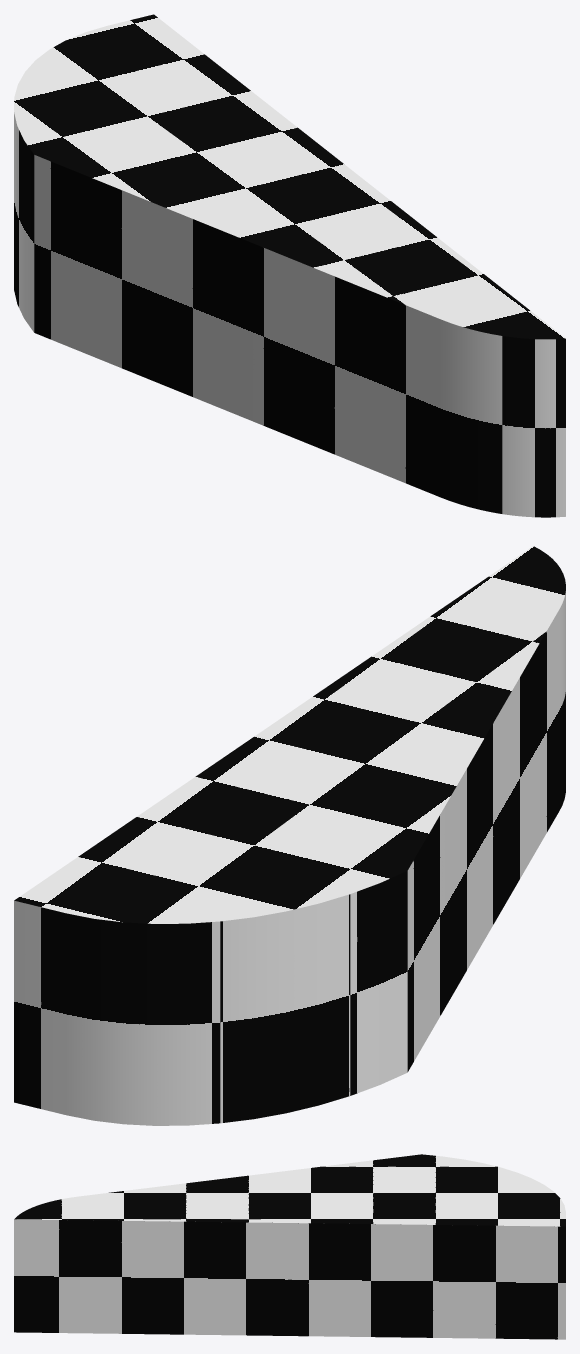
The model's file is Flipper_2.FBX.
The picture shows the model from 3 angles, top to bottom: view 1: azimuth 30°, elevation 25°; view 2: azimuth 150°, elevation 25°; view 3: azimuth 270°, elevation 25°; orthographic projection. The views are drawn at different scales.
Parts seen in each view (by area): view 1: Layer0_001; view 2: Layer0_001; view 3: Layer0_001.
Part boxes in pixels (box(x1,y1,x2,y2)): Layer0_001: box(14, 14, 565, 517); Layer0_001: box(14, 546, 565, 1125); Layer0_001: box(14, 1154, 565, 1339).
Bounding box in the file's own units: 69.69 × 50.8 × 225.
1 material, 1 textured.
